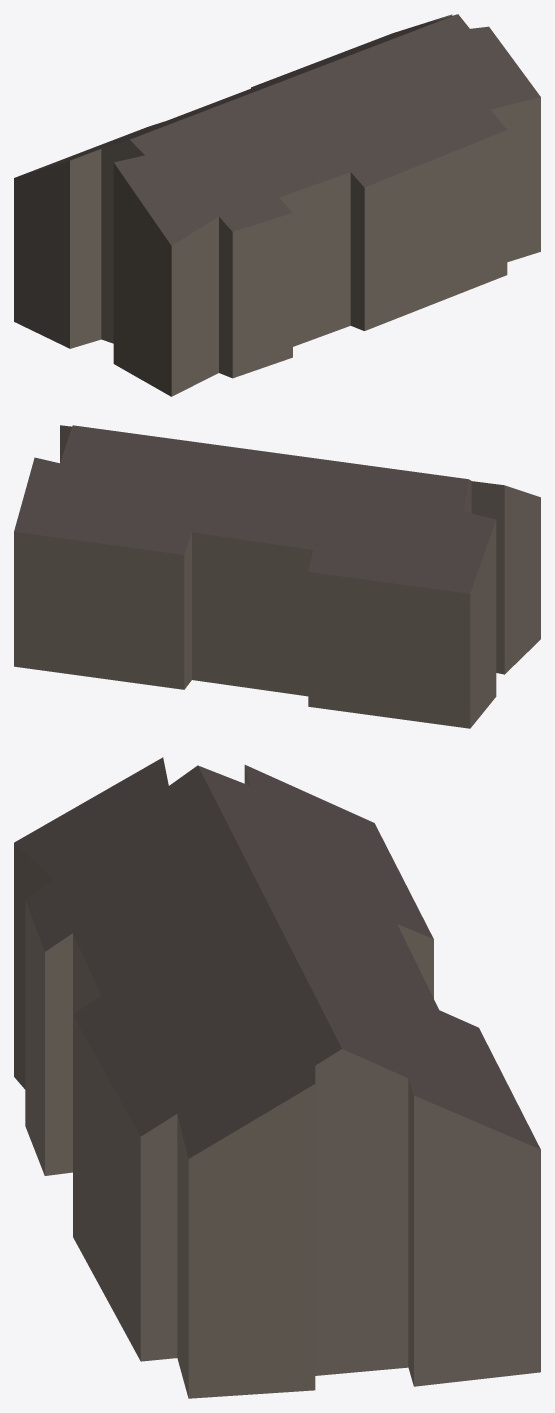
3 views of the same model, one above another, from view 1: azimuth 30°, elevation 25°; view 2: azimuth 150°, elevation 25°; view 3: azimuth 270°, elevation 25° (orthographic). The views are drawn at different scales.
Visible parts, largest first — view 1: HP-w783664808; view 2: HP-w783664808; view 3: HP-w783664808.
Boxes of the visible parts, box(x1,y1,x2,y2) form: HP-w783664808: box(14, 14, 540, 396); HP-w783664808: box(14, 425, 540, 728); HP-w783664808: box(14, 757, 540, 1398).
Size of the model in its own units: 30.61 by 13.13 by 19.31.
